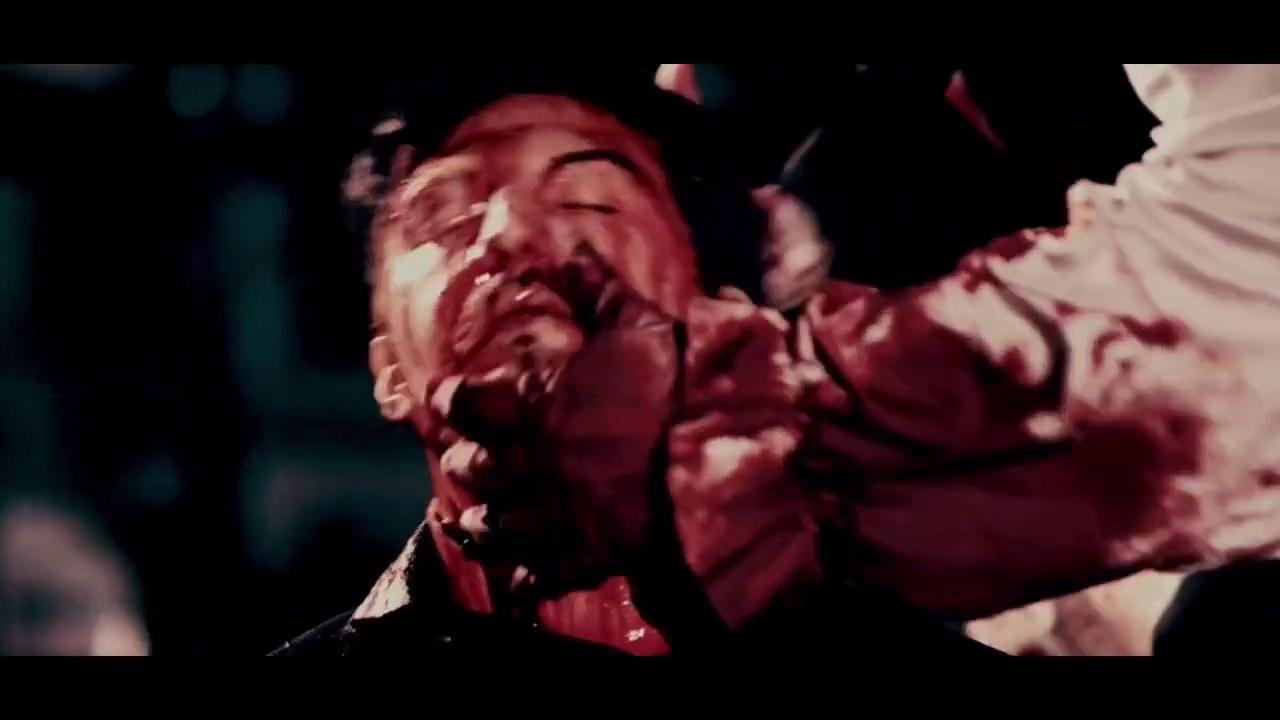Fire: (371, 98, 1280, 661)
